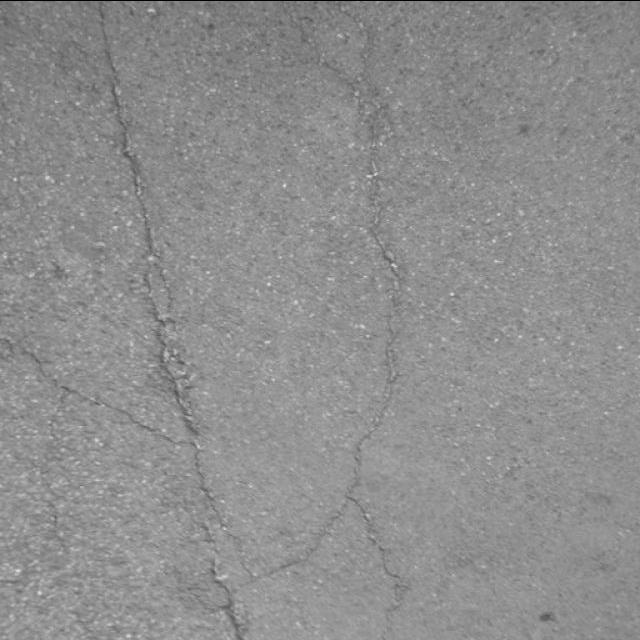SurfaceCrack: (21, 0, 355, 639)
